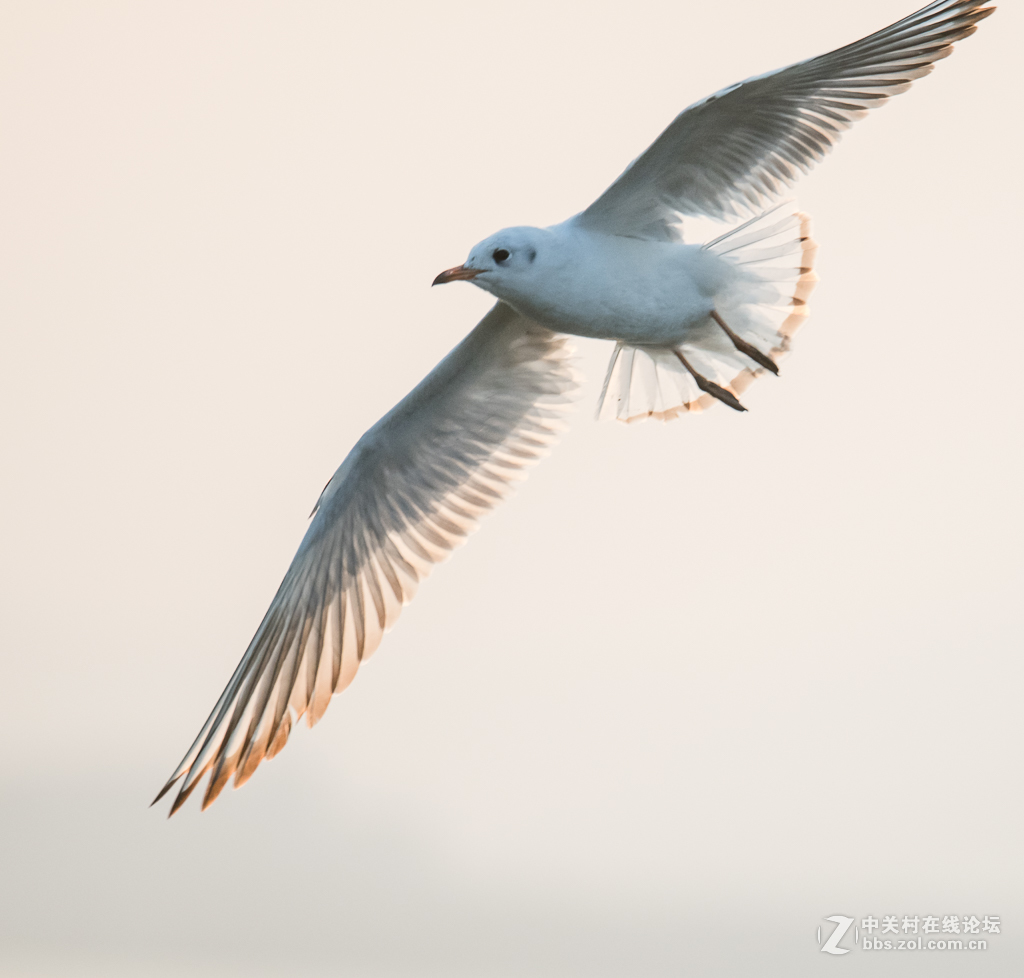bird: (144, 1, 1003, 820)
